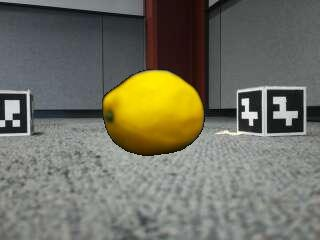lemon: (104, 70, 205, 154)
